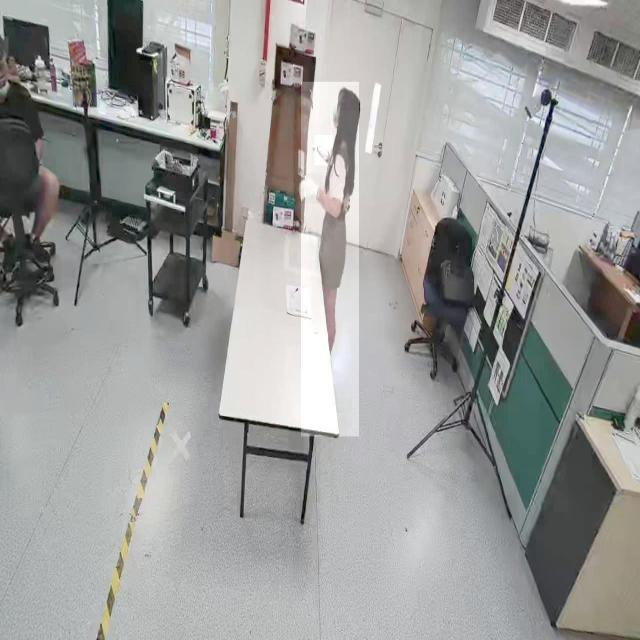hand_glove: (302, 174, 323, 204), (315, 135, 333, 165)
head_nohelmet: (338, 85, 360, 111), (0, 36, 9, 59)
person: (301, 82, 359, 437)
